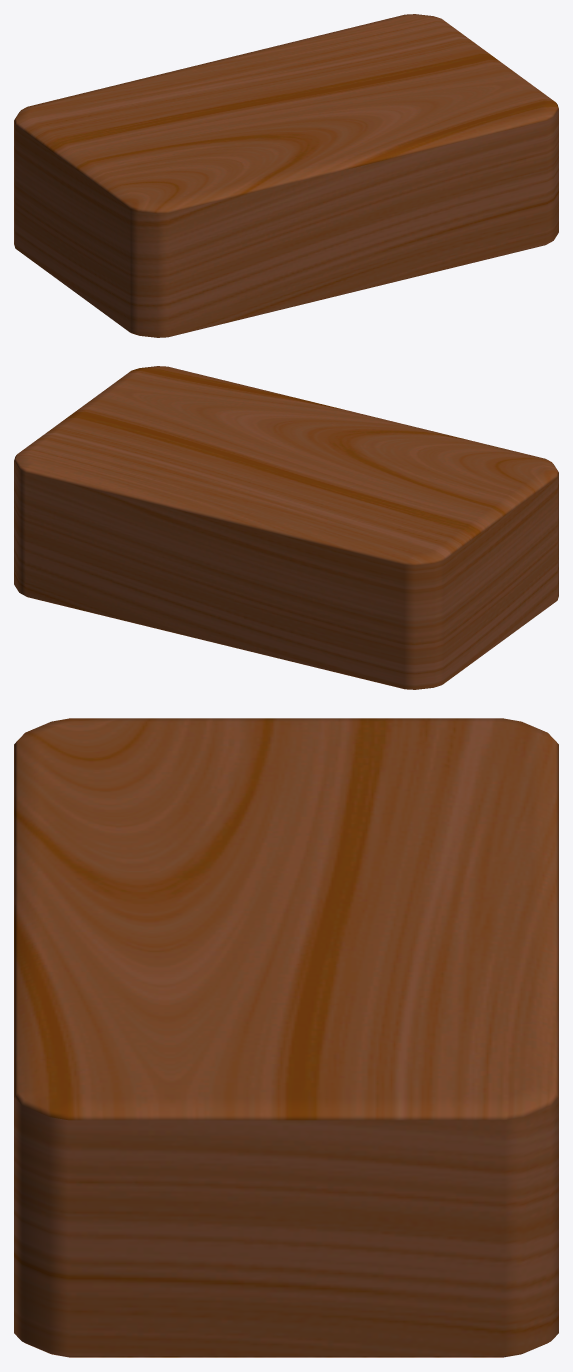
The model's file is Chess_Piece_Box_Cap_01.fbx.
3 views of the same model, one above another, from view 1: azimuth 30°, elevation 25°; view 2: azimuth 150°, elevation 25°; view 3: azimuth 270°, elevation 25° (orthographic). The views are drawn at different scales.
Visible parts, largest first — view 1: Chess_Piece_Box_Cap_01; view 2: Chess_Piece_Box_Cap_01; view 3: Chess_Piece_Box_Cap_01.
Boxes of the visible parts, left/top/right/bottom form: Chess_Piece_Box_Cap_01: left=14, top=14, right=558, bottom=337; Chess_Piece_Box_Cap_01: left=14, top=366, right=558, bottom=689; Chess_Piece_Box_Cap_01: left=14, top=718, right=558, bottom=1357.
Size of the model in its own units: 47.56 by 13.9 by 27.48.
